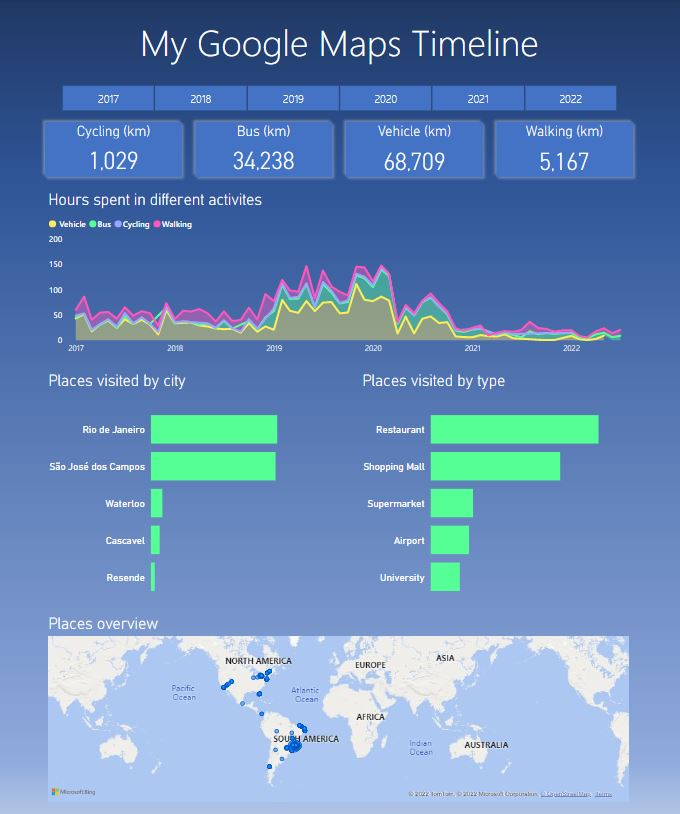

This screenshot's page, from the dashboard's own definition file:
{"tool":"powerbi","page":{"name":"Page 1","canvas":[1000,1200],"ordinal":0},"visuals":[{"type":"stackedAreaChart","title":"Hours spent in different activites","fields":{"Y":["Sum(Activity.duration_in_hours)"],"Series":["Activity.activity_type"],"Category":["Date.Date.Variation.Date Hierarchy.Year","Date.Date.Variation.Date Hierarchy.Month"]},"box":[70,280,860.1,250],"z":0},{"type":"card","title":"Cycling (km)","fields":{"Values":["Activity.Distance in km"]},"box":[70,180,200,80],"z":1000},{"type":"slicer","fields":{"Values":["Date.Date.Variation.Date Hierarchy.Year"]},"box":[70,120,860,50],"z":2000},{"type":"map","title":"Places overview","fields":{"Y":["Place Visit.latitude"],"X":["Place Visit.longitude"],"Size":["CountNonNull(Place Visit.name)"]},"box":[70,900,860,280],"z":3000},{"type":"card","title":"Bus (km)","fields":{"Values":["Activity.Distance in km"]},"box":[290,180,200,80],"z":4000},{"type":"card","title":"Vehicle (km)","fields":{"Values":["Activity.Distance in km"]},"box":[510,180,200,79.8],"z":5000},{"type":"card","title":"Walking (km)","fields":{"Values":["Activity.Distance in km"]},"box":[730,180,200,79.8],"z":6000},{"type":"barChart","title":"Places visited by type","fields":{"Category":["Place Visit.place_type"],"Y":["Count(Place Visit.name)"]},"box":[530,545,400,350],"z":7000},{"type":"barChart","title":"Places visited by city","fields":{"Category":["Place Visit.city"],"Y":["Count(Place Visit.name)"]},"box":[70,545,400,350],"z":8000},{"type":"textbox","box":[70,20,861.6,85],"z":9000}]}

Visuals, with their boxes in screenshot pixels (x1, y1, x2, y2), scaled from the page's 1000x1200 canvas onto the 680x814 screenshot:
"Hours spent in different activites" stackedAreaChart: detection(48, 190, 632, 360)
"Cycling (km)" card: detection(48, 122, 184, 176)
slicer - Date.Date.Variation.Date Hierarchy.Year: detection(48, 81, 632, 115)
"Places overview" map: detection(48, 610, 632, 800)
"Bus (km)" card: detection(197, 122, 333, 176)
"Vehicle (km)" card: detection(347, 122, 483, 176)
"Walking (km)" card: detection(496, 122, 632, 176)
"Places visited by type" barChart: detection(360, 370, 632, 607)
"Places visited by city" barChart: detection(48, 370, 320, 607)
textbox: detection(48, 14, 633, 71)
